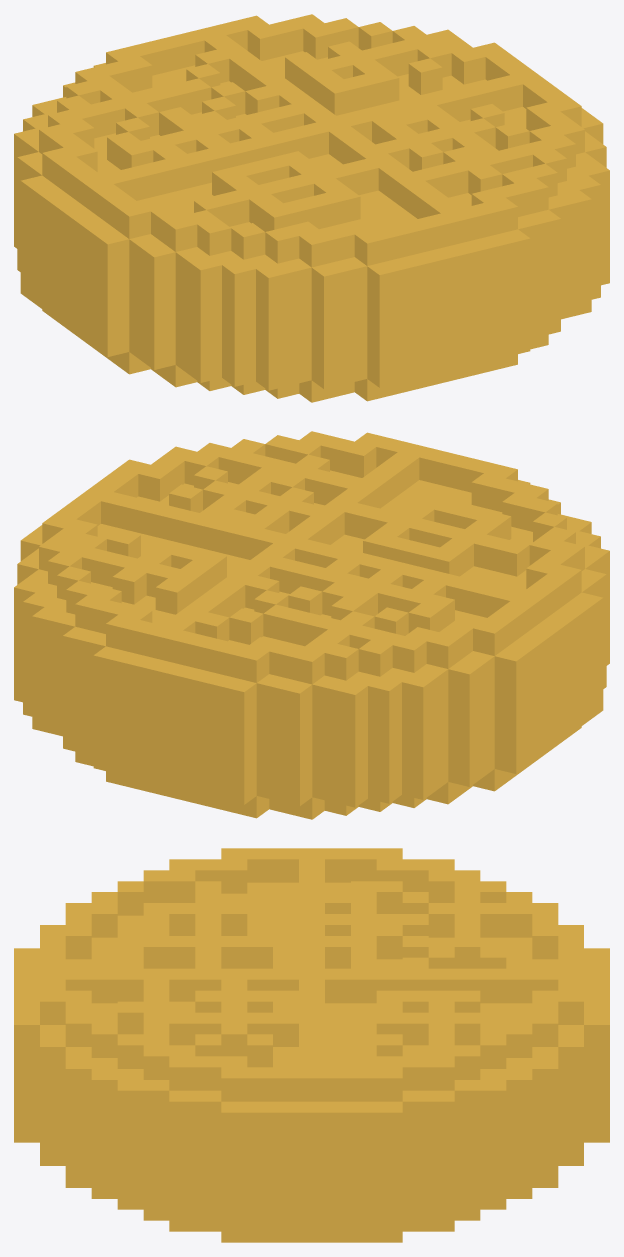
Rendered from 中秋节月饼.gltf.
3 renders of one model, top to bottom at view 1: azimuth 30°, elevation 25°; view 2: azimuth 150°, elevation 25°; view 3: azimuth 270°, elevation 25°, orthographic. The views are drawn at different scales.
Parts seen in each view (by area): view 1: Object; view 2: Object; view 3: Object.
Boxes of the visible parts, <box> form: Object: <box>14,14,609,402</box>; Object: <box>14,431,609,819</box>; Object: <box>14,848,609,1242</box>.
Size of the model in its own units: 23 by 7 by 23.
Materials: 1 (1 with a texture image).
